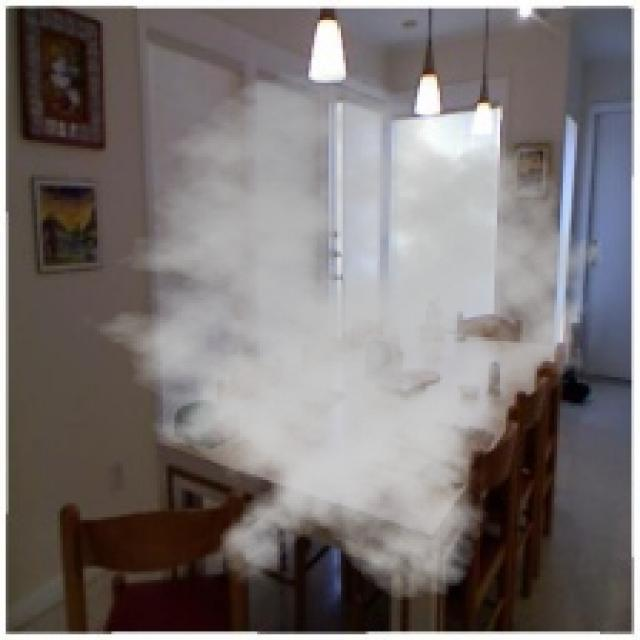Smoke: (72, 71, 618, 603)
